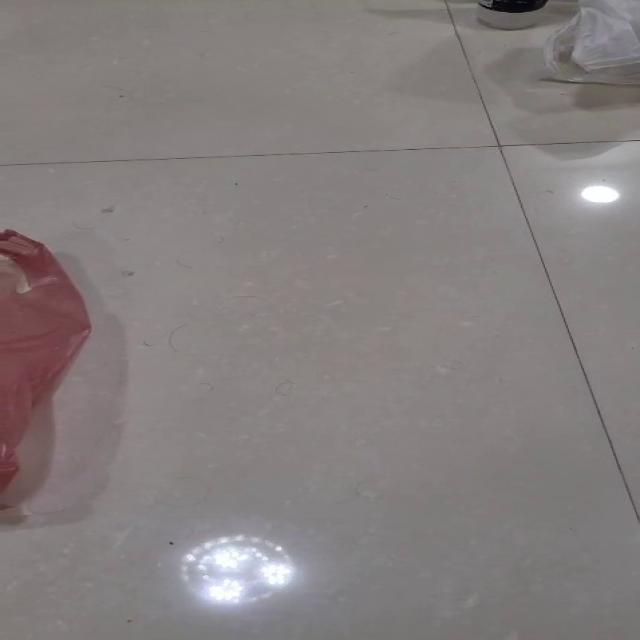plastic: (0, 227, 91, 493), (541, 0, 639, 85)
